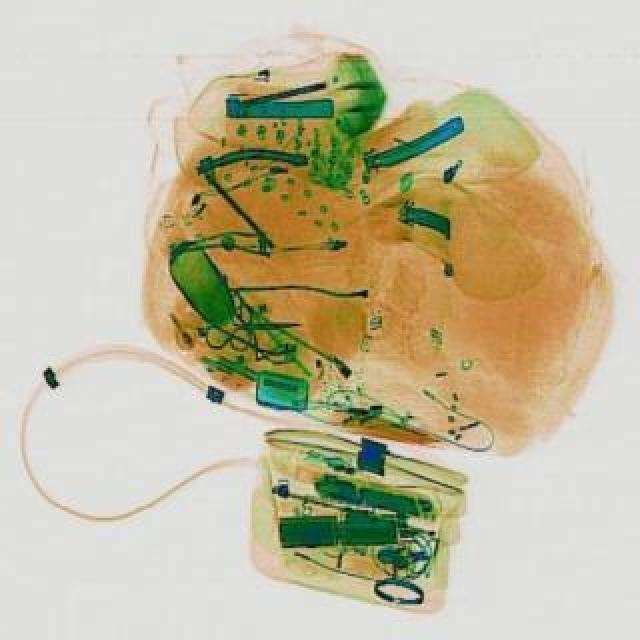pliers: (230, 302, 300, 348)
